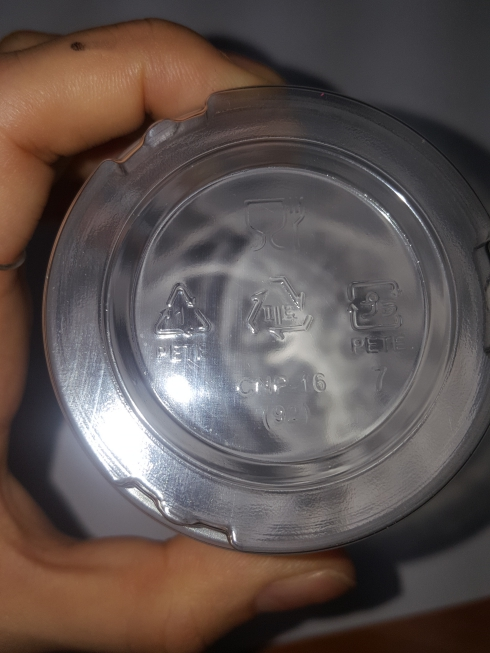recycle: (151, 269, 220, 379)
